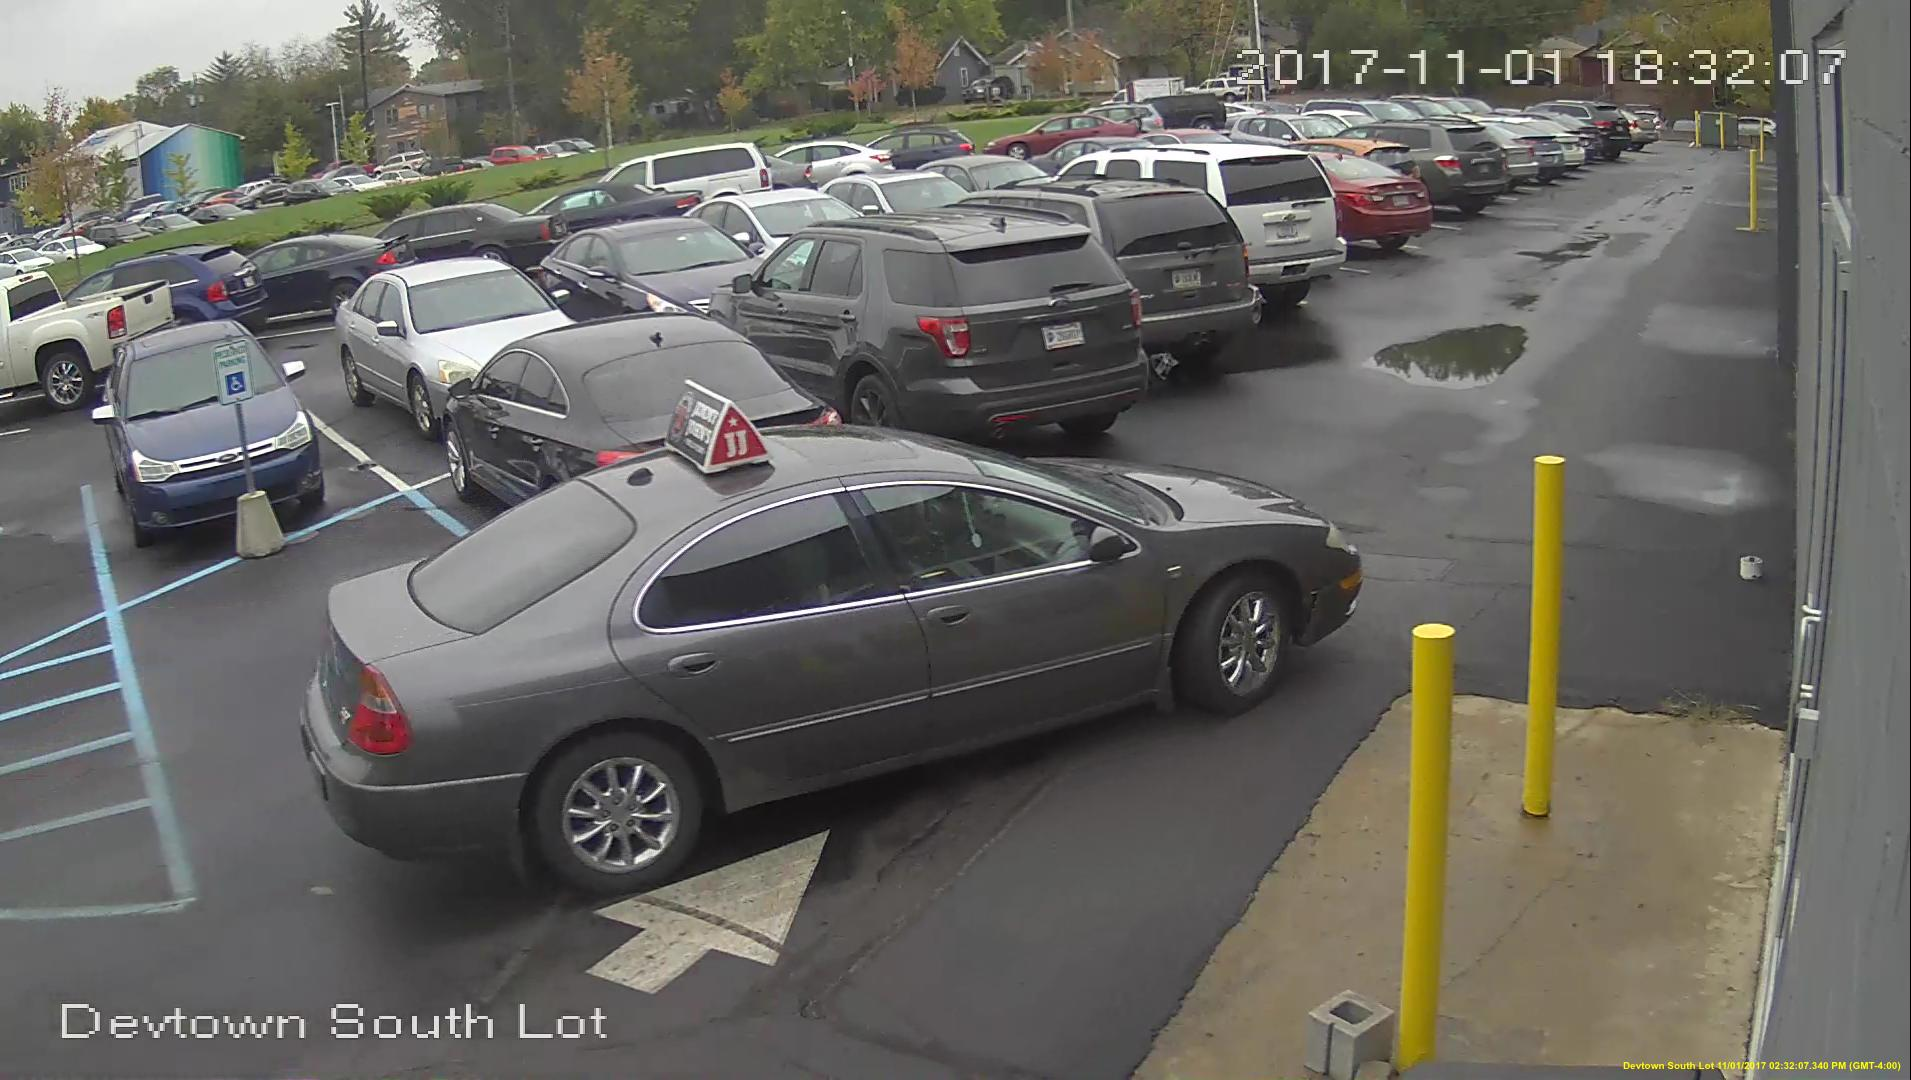jimmy_johns: (664, 379, 777, 487)
